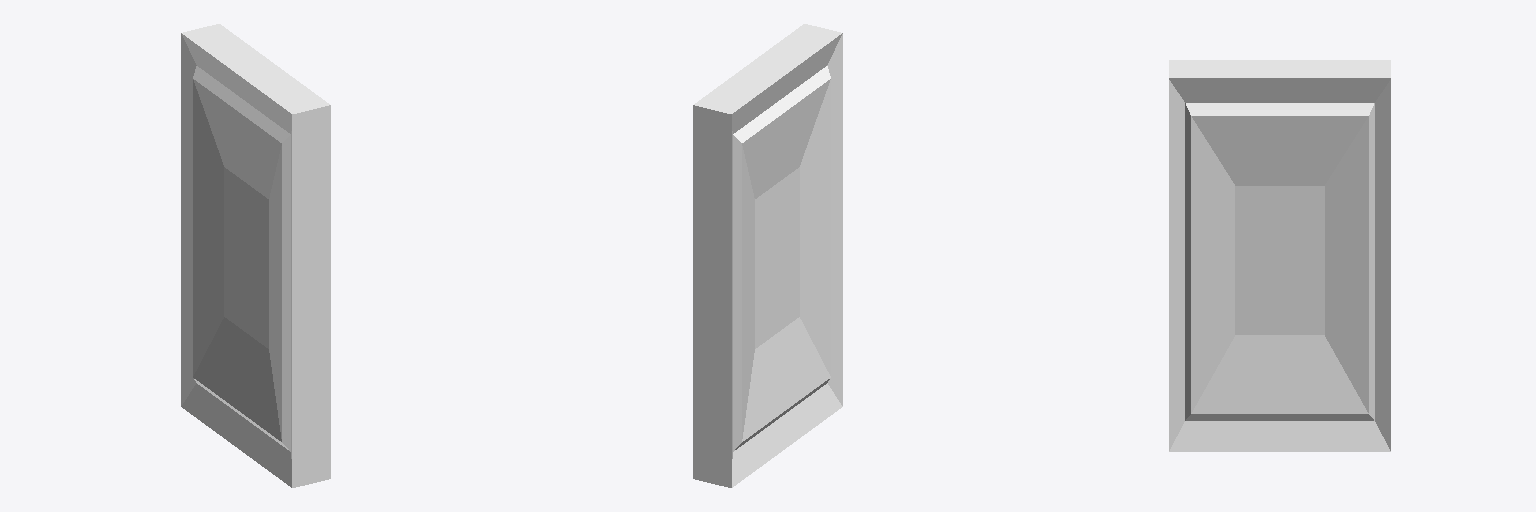
The model's file is la_puerta.obj.
3 views of the same model, side by side, from view 1: azimuth 30°, elevation 25°; view 2: azimuth 150°, elevation 25°; view 3: azimuth 270°, elevation 25° (orthographic).
Visible parts, largest first — view 1: pCube1; view 2: pCube1; view 3: pCube1.
Boxes of the visible parts, box(x1,y1,x2,y2) form: pCube1: box(181, 24, 330, 487); pCube1: box(693, 24, 842, 487); pCube1: box(1169, 60, 1390, 451).
Size of the model in its own units: 2.19 by 20.36 by 11.